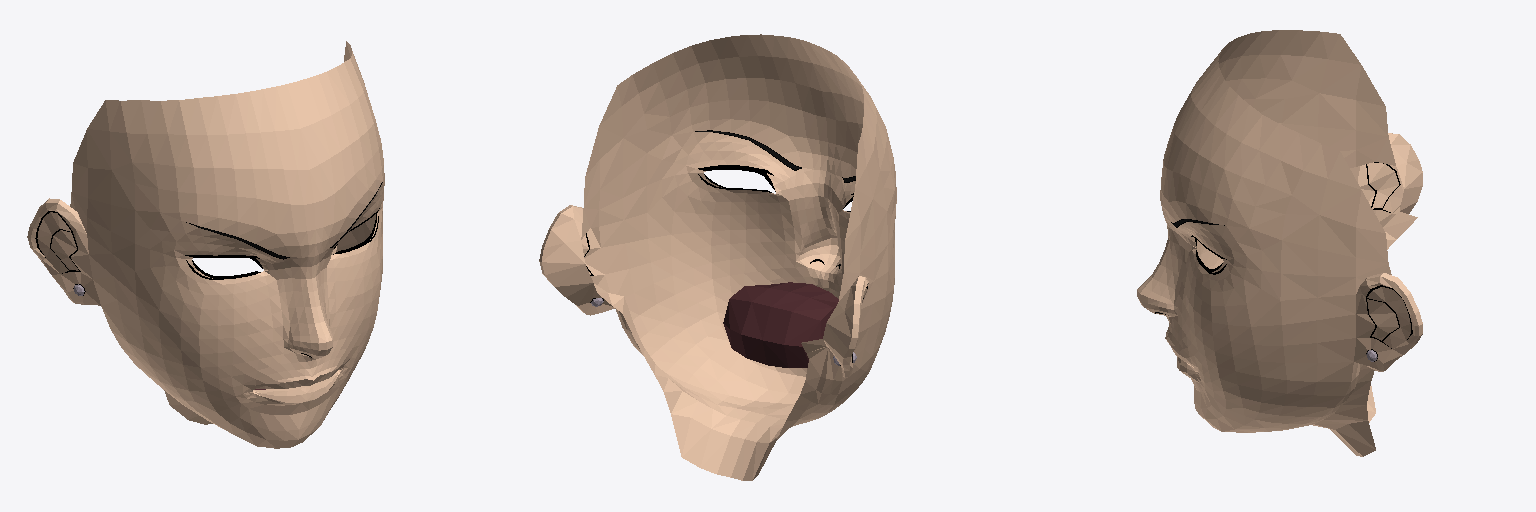
The picture shows the model from 3 angles: view 1: azimuth 30°, elevation 25°; view 2: azimuth 150°, elevation 25°; view 3: azimuth 270°, elevation 25°; orthographic projection.
Parts seen in each view (by area): view 1: 5_Face_1_0_0; view 2: 5_Face_1_0_0; view 3: 5_Face_1_0_0.
Boxes of the visible parts, x1=… form: 5_Face_1_0_0: x1=27, y1=41, x2=384, y2=448; 5_Face_1_0_0: x1=539, y1=34, x2=896, y2=480; 5_Face_1_0_0: x1=1137, y1=30, x2=1422, y2=456.
Bounding box in the file's own units: 0.2104 × 0.2454 × 0.1634.
Materials: 1 (1 with a texture image).